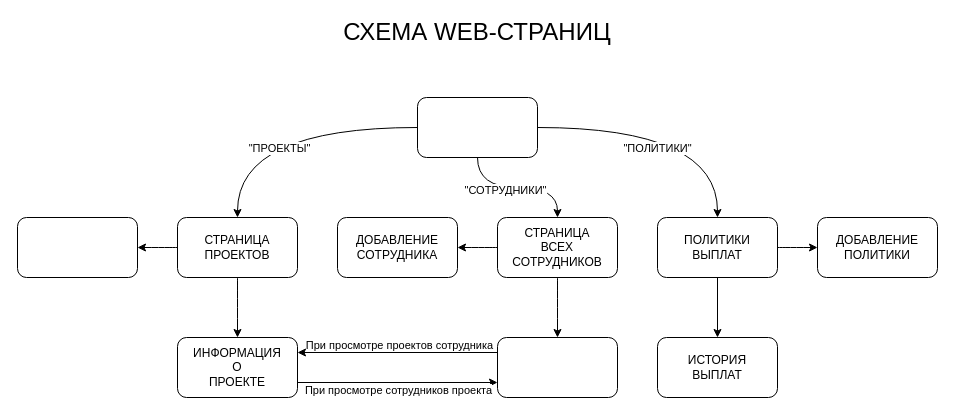
Some shapes in this 955 by 415 pixel diagram are drawn without their labels. The centre of each missing label's shape, as x and y in pixels:
"ГЛАВНАЯ СТРАНИЦА" belongs at (477,127).
"ДОБАВЛЕНИЕ ПРОЕКТА" belongs at (77,247).
"ИНФОРМАЦИЯ О СОТРУДНИКЕ" belongs at (557,367).
